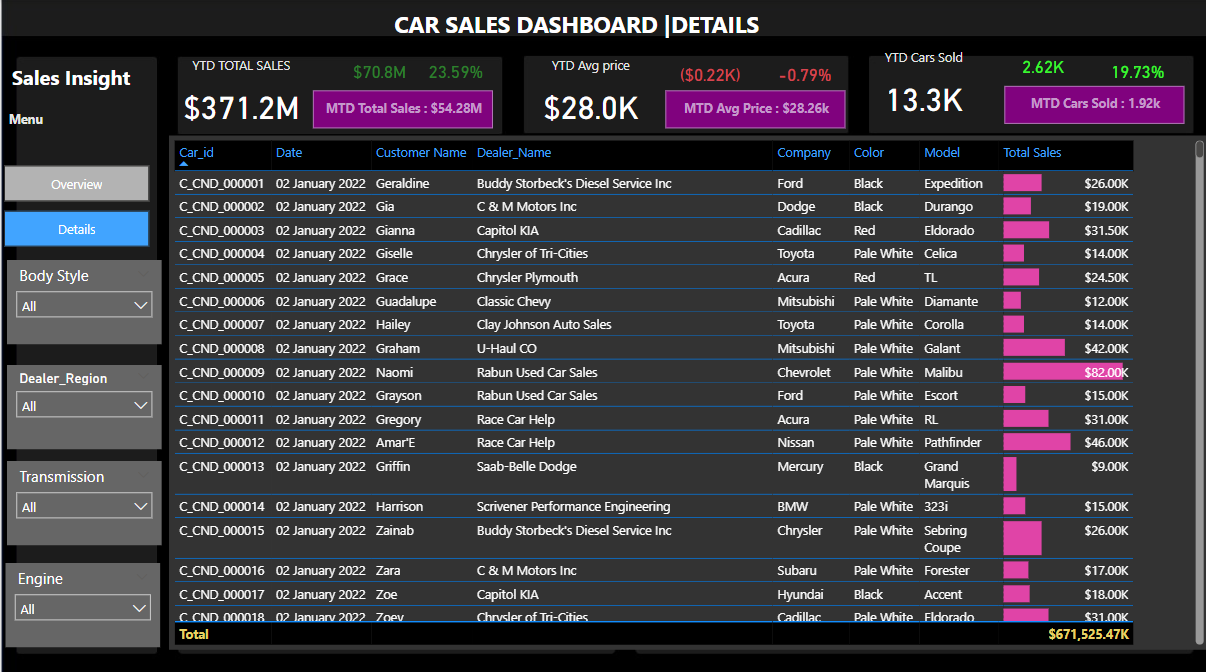

What the dashboard file says about the page in this screenshot:
{"tool":"powerbi","page":{"name":"Details","canvas":[1280,720],"ordinal":1},"visuals":[{"type":"card","title":"YTD TOTAL SALES","fields":{"Values":["All formulas.YTD Total Sales"]},"box":[177.6,60.5,153.1,85],"z":0},{"type":"card","title":"Sales Diff","fields":{"Values":["All formulas.Sales Difference"]},"box":[359.1,56.7,83.2,39.7],"z":1000},{"type":"card","title":"Sales Diff","fields":{"Values":["All formulas.YoY Sales Growth"]},"box":[442.2,56.7,79.4,39.7],"z":2000},{"type":"card","fields":{"Values":["All formulas.MTD KPI"]},"box":[330.7,96.4,190.9,40],"z":3000},{"type":"card","title":"YTD Avg price","fields":{"Values":["All formulas.YTD Avg Price"]},"box":[548,60.5,153.1,85],"z":4000},{"type":"card","title":"Sales Diff","fields":{"Values":["All formulas.Avg Price Diff"]},"box":[701.1,60.5,100.2,39.7],"z":5000},{"type":"card","title":"Sales Diff","fields":{"Values":["All formulas.Yoy Avg Price Growth"]},"box":[801.3,60.5,100.2,39.7],"z":6000},{"type":"card","fields":{"Values":["All formulas.MTD AVG KPI"]},"box":[704.9,96.4,190.9,39.7],"z":7000},{"type":"card","title":"YTD Cars Sold","fields":{"Values":["All formulas.YTD Cars Sold"]},"box":[901.4,52.9,153.1,85],"z":8000},{"type":"card","title":"Sales Diff","fields":{"Values":["All formulas.Car Sold Diff"]},"box":[1054.5,52.9,100.2,39.7],"z":9000},{"type":"card","title":"Sales Diff","fields":{"Values":["All formulas.Yoy Car Sold Growth"]},"box":[1154.7,56.7,100.2,39.7],"z":10000},{"type":"card","fields":{"Values":["All formulas.MTD Car Sold KPI"]},"box":[1063.9,92.6,190.9,39.7],"z":11000},{"type":"textbox","box":[368.6,4.7,482.6,48.4],"z":12000},{"type":"slicer","fields":{"Values":["car_data.Body Style"]},"box":[6.8,277.5,164,89],"z":13000},{"type":"slicer","fields":{"Values":["car_data.Dealer_Region"]},"box":[6.8,388.4,164,89],"z":14000},{"type":"slicer","fields":{"Values":["car_data.Transmission"]},"box":[6.8,489.9,164,89],"z":15000},{"type":"slicer","fields":{"Values":["car_data.Engine"]},"box":[5.2,597.7,164,89],"z":16000},{"type":"tableEx","fields":{"Values":["car_data.Car_id","car_data.Date","car_data.Customer Name","car_data.Dealer_Name","car_data.Company","car_data.Color","car_data.Model","All formulas.Total Sales"]},"box":[178,145.2,1102.6,545.1],"z":17000},{"type":"textbox","box":[6.2,62.5,171.8,40.6],"z":18000},{"type":"textbox","box":[3.1,112.5,171.8,40.6],"z":19000},{"type":"pageNavigator","box":[3.1,176.5,154.6,87.5],"z":20000}]}

Visuals, with their boxes on the page's 1280x720 design canvas (x1, y1, x2, y2). These are canvas units, not pixel positions in the 1206x672 screenshot, which may show the page scaled, cropped or inside an application window:
"YTD TOTAL SALES" card: box(178, 60, 331, 146)
"Sales Diff" card: box(359, 57, 442, 96)
"Sales Diff" card: box(442, 57, 522, 96)
card - All formulas.MTD KPI: box(331, 96, 522, 136)
"YTD Avg price" card: box(548, 60, 701, 146)
"Sales Diff" card: box(701, 60, 801, 100)
"Sales Diff" card: box(801, 60, 902, 100)
card - All formulas.MTD AVG KPI: box(705, 96, 896, 136)
"YTD Cars Sold" card: box(901, 53, 1054, 138)
"Sales Diff" card: box(1054, 53, 1155, 93)
"Sales Diff" card: box(1155, 57, 1255, 96)
card - All formulas.MTD Car Sold KPI: box(1064, 93, 1255, 132)
textbox: box(369, 5, 851, 53)
slicer - car_data.Body Style: box(7, 278, 171, 366)
slicer - car_data.Dealer_Region: box(7, 388, 171, 477)
slicer - car_data.Transmission: box(7, 490, 171, 579)
slicer - car_data.Engine: box(5, 598, 169, 687)
tableEx - car_data.Car_id x car_data.Date: box(178, 145, 1281, 690)
textbox: box(6, 62, 178, 103)
textbox: box(3, 112, 175, 153)
pageNavigator: box(3, 176, 158, 264)
